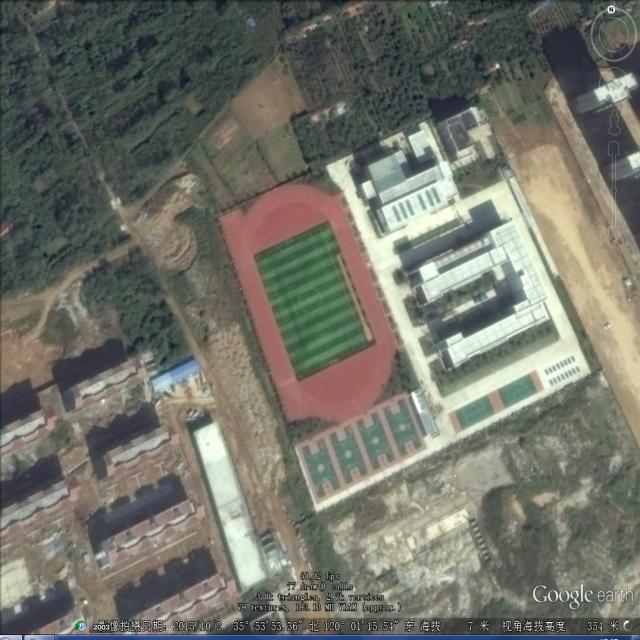playground: (215, 180, 399, 425)
